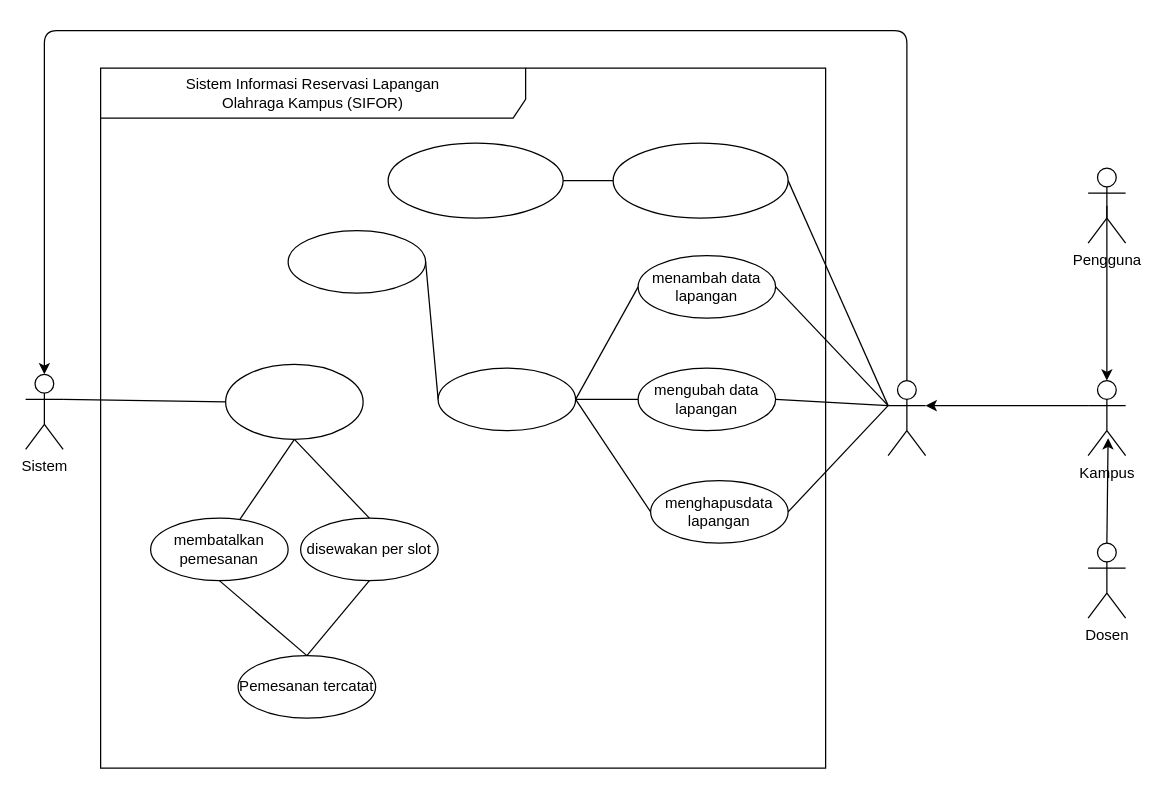
This 1163x790 diagram has some shape labels left out. The shapes that lost their labels are listed below. From the top down, each one's centre as x and y in pixels, then its label:
At [475,180]: "melihat riwayat pemesanan".
At [700,180]: "melihat laporan pemakaian lapangan".
At [356,261]: "booking waktu".
At [293,401]: "memeriksa ketersediaan slot".
At [506,399]: "melihat jadwal lapangan".
At [906,417]: "Pengelola Lapangan".
